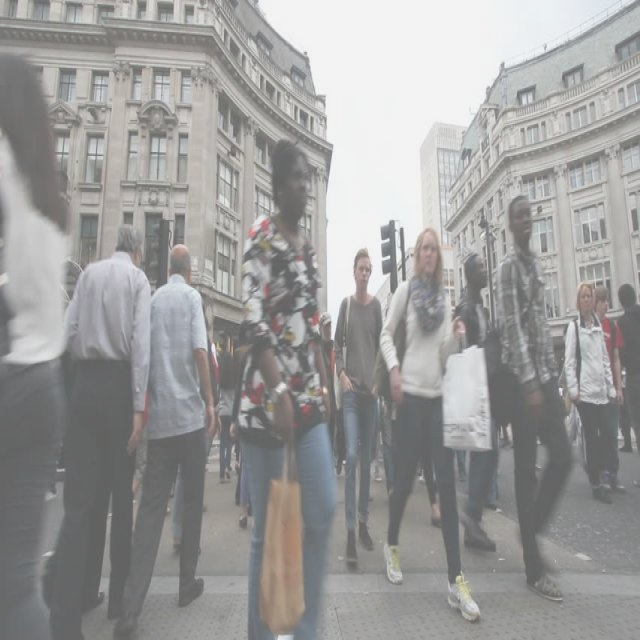pessoa: (237, 137, 339, 639), (373, 222, 487, 620), (44, 217, 150, 639), (0, 52, 73, 639), (124, 244, 220, 639), (495, 192, 574, 606), (445, 246, 507, 564), (333, 244, 384, 571), (564, 282, 618, 498), (591, 282, 624, 486), (234, 317, 266, 511), (610, 274, 640, 462), (554, 322, 586, 474), (372, 310, 396, 494), (169, 450, 203, 562), (196, 327, 217, 500), (128, 370, 152, 514), (316, 312, 337, 455), (421, 444, 444, 531), (450, 446, 470, 494), (214, 336, 224, 354)
